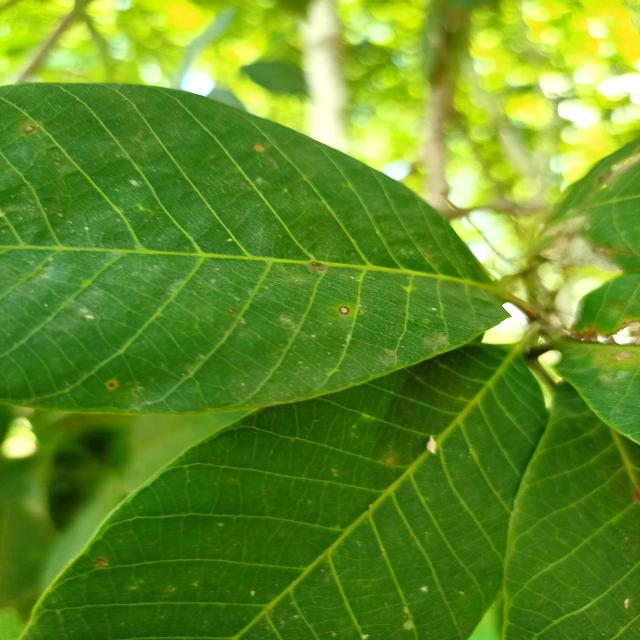Colletotrichum: (338, 306, 350, 315), (23, 126, 35, 134)
